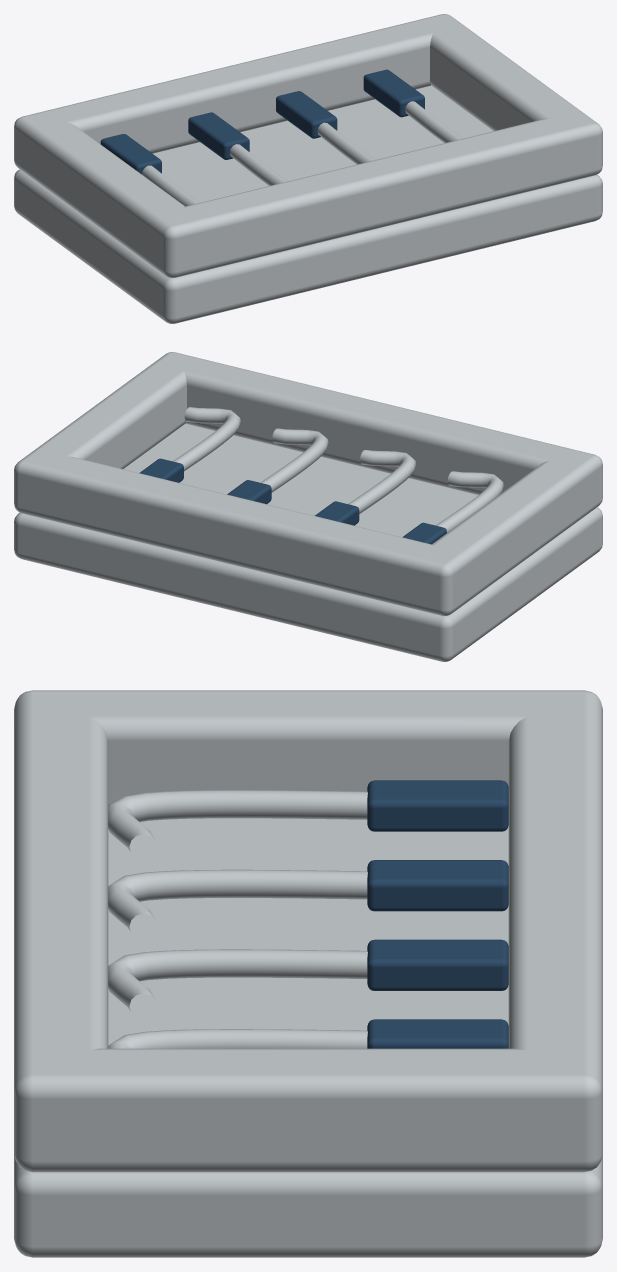
Rendered from rowing-boathouse-and-regatta-course-rigging-tool-tray-47d3c079__32147.glb.
The picture shows the model from 3 angles, top to bottom: view 1: azimuth 30°, elevation 25°; view 2: azimuth 150°, elevation 25°; view 3: azimuth 270°, elevation 25°; orthographic projection. The views are drawn at different scales.
Parts seen in each view (by area): view 1: rigging-tool-tray; view 2: rigging-tool-tray; view 3: rigging-tool-tray.
Part boxes in pixels (x1,y1,x2,y2): rigging-tool-tray: [14, 14, 602, 323]; rigging-tool-tray: [14, 352, 602, 661]; rigging-tool-tray: [14, 690, 602, 1257].
Bounding box in the file's own units: 0.4 × 0.085 × 0.25.
